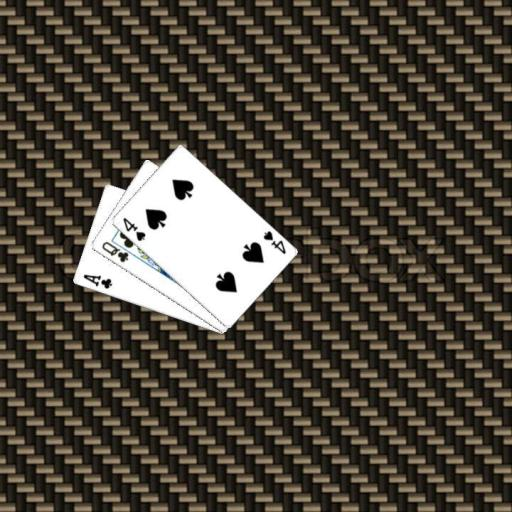4S: (120, 215, 147, 242), (260, 228, 287, 255)
AC: (80, 271, 113, 291)
QC: (98, 238, 130, 264)
